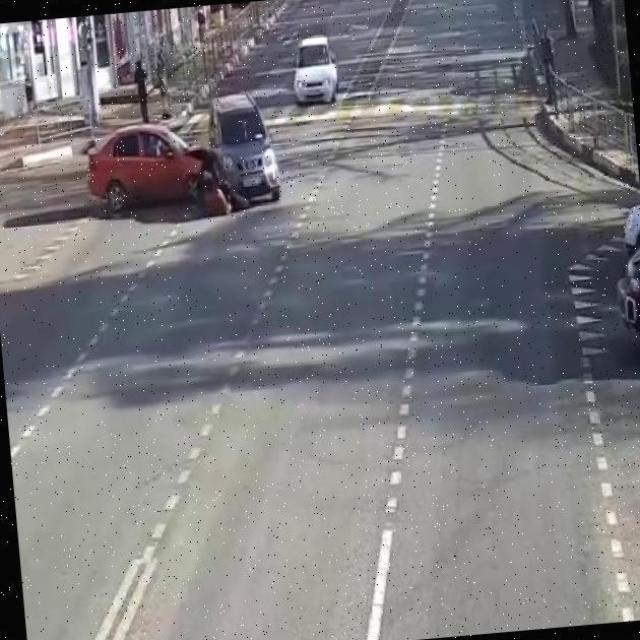accident: (166, 110, 271, 214)
